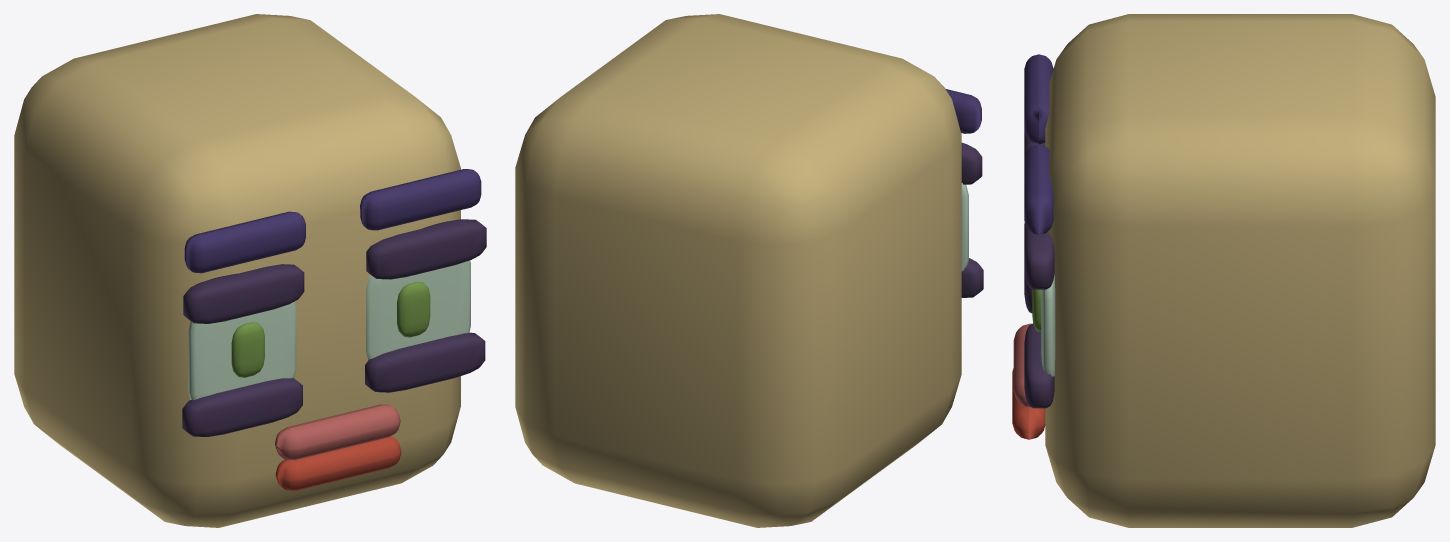
File: HeadRobotFinal.glb
The picture shows the model from 3 angles, left to right: view 1: azimuth 30°, elevation 25°; view 2: azimuth 150°, elevation 25°; view 3: azimuth 270°, elevation 25°; orthographic projection. The views are drawn at different scales.
Visible parts, largest first — view 1: Head; view 2: Head; view 3: Head.
Part boxes in pixels (x1,y1,x2,y2): Head: (14,14,486,527); Head: (515,14,983,527); Head: (1012,14,1435,527).
Size of the model in its own units: 0.7 by 0.8 by 0.7591.
